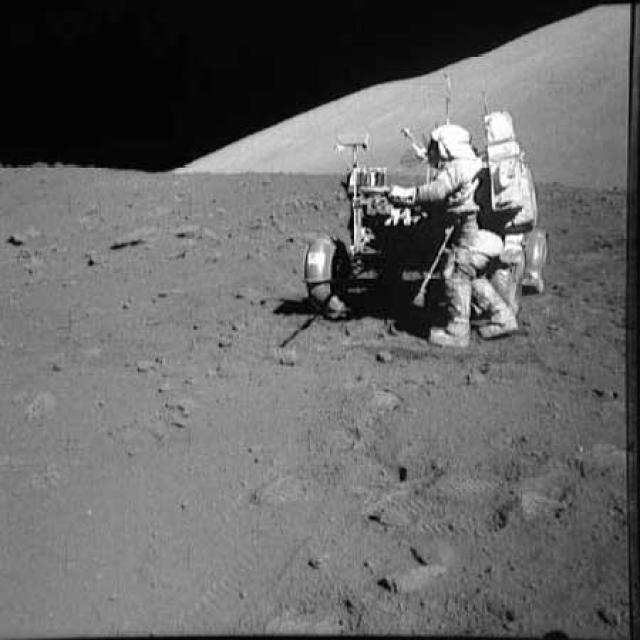artifact: (291, 69, 557, 352)
crater: (258, 448, 440, 502)
rock: (104, 218, 161, 255), (172, 220, 221, 251), (6, 224, 28, 248)
